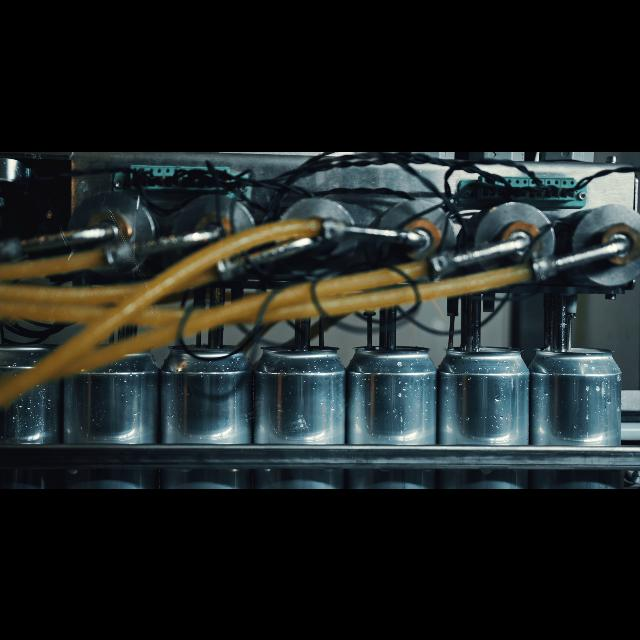empty: (532, 336, 622, 488), (162, 334, 250, 488), (68, 338, 154, 488), (262, 336, 346, 488), (351, 334, 433, 488), (446, 334, 526, 488), (2, 334, 56, 488)
